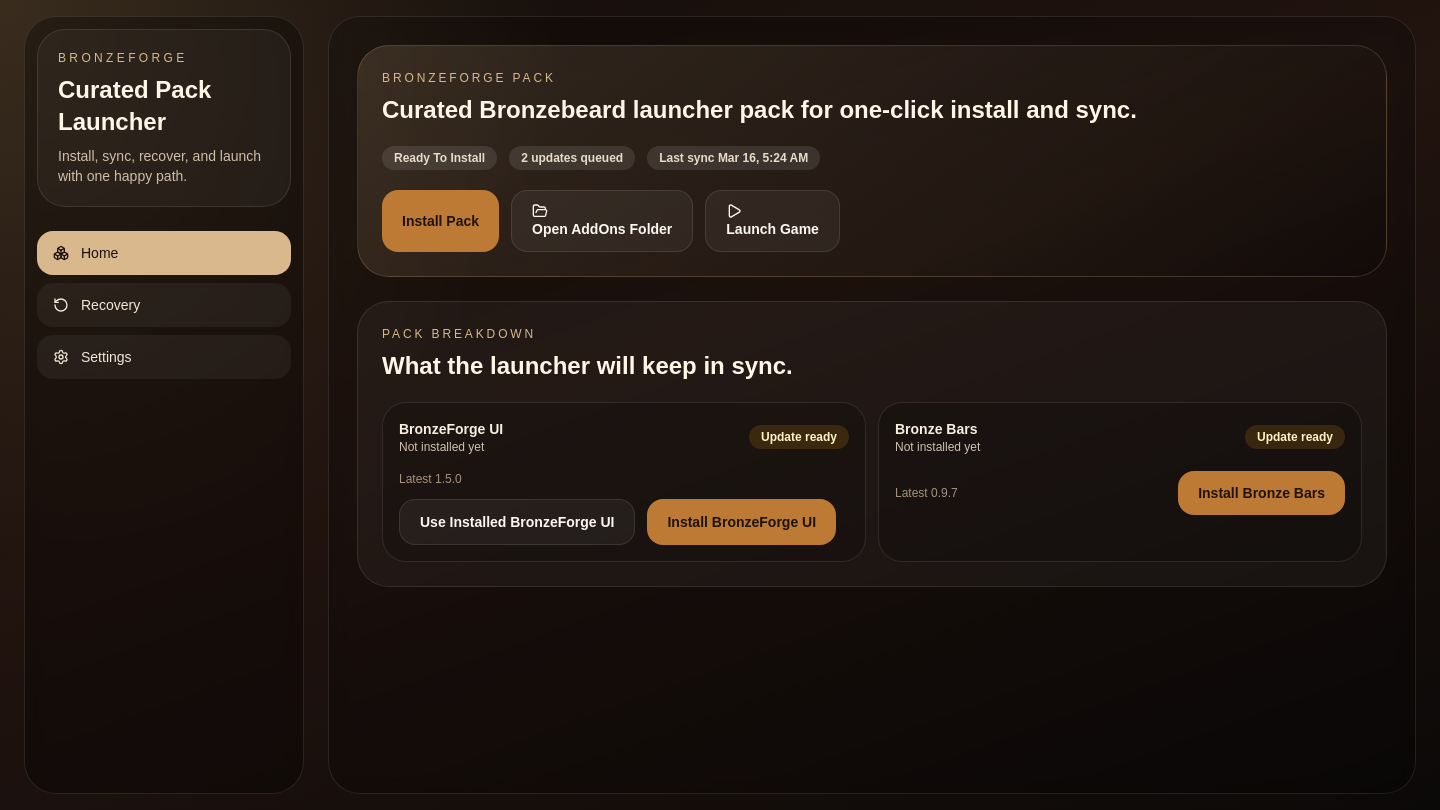
Test: installing a single addon from pack breakdown updates only that addon card
Click the button "Install BronzeForge UI" at coordinates (742, 522), box [648,499,836,545]
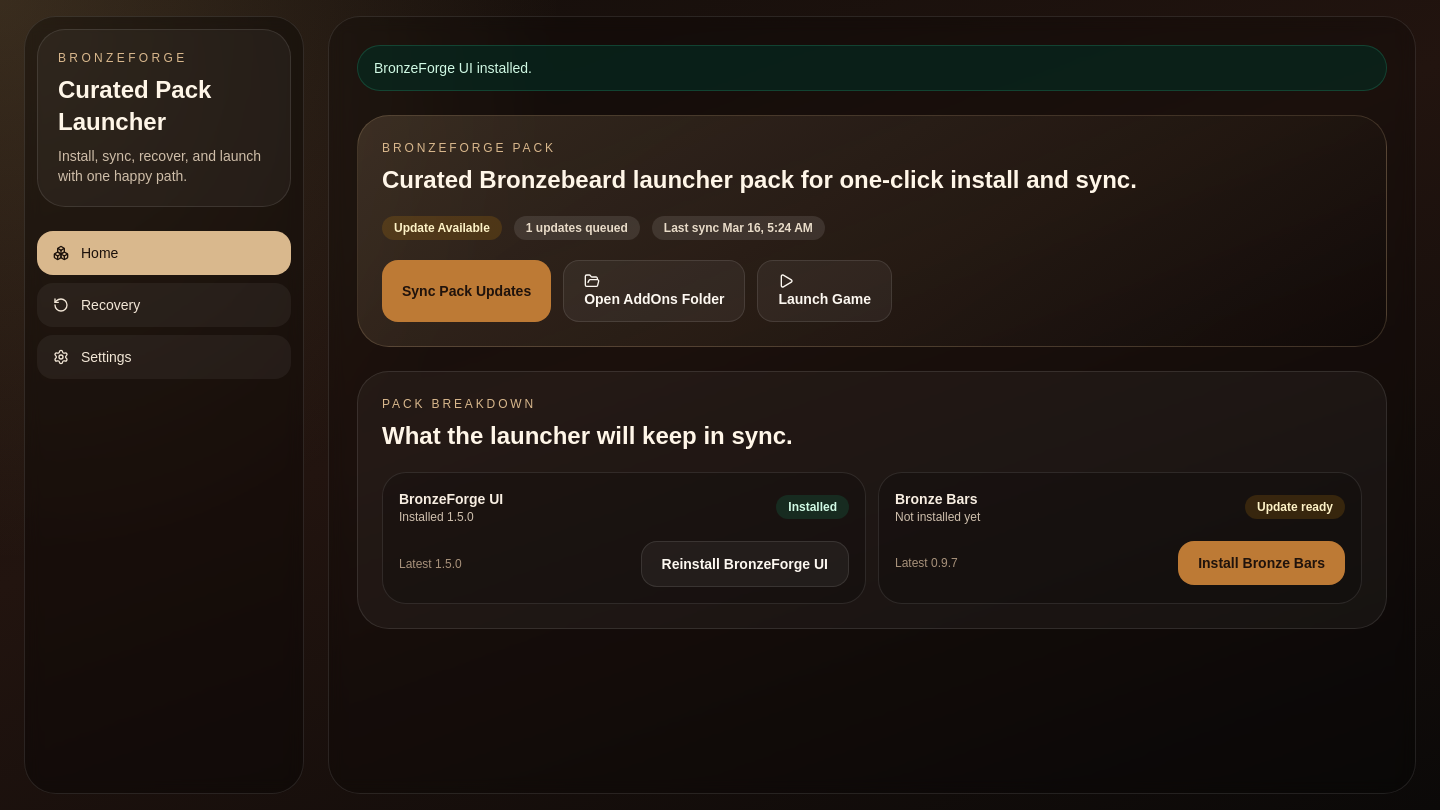
Result: the text "BronzeForge UI installed." is shown at [357,45,1387,91]
Result: the text "Installed 1.5.0" is shown at [399,510,474,524]
Result: the button "Reinstall BronzeForge UI" is shown at [640,541,849,587]
